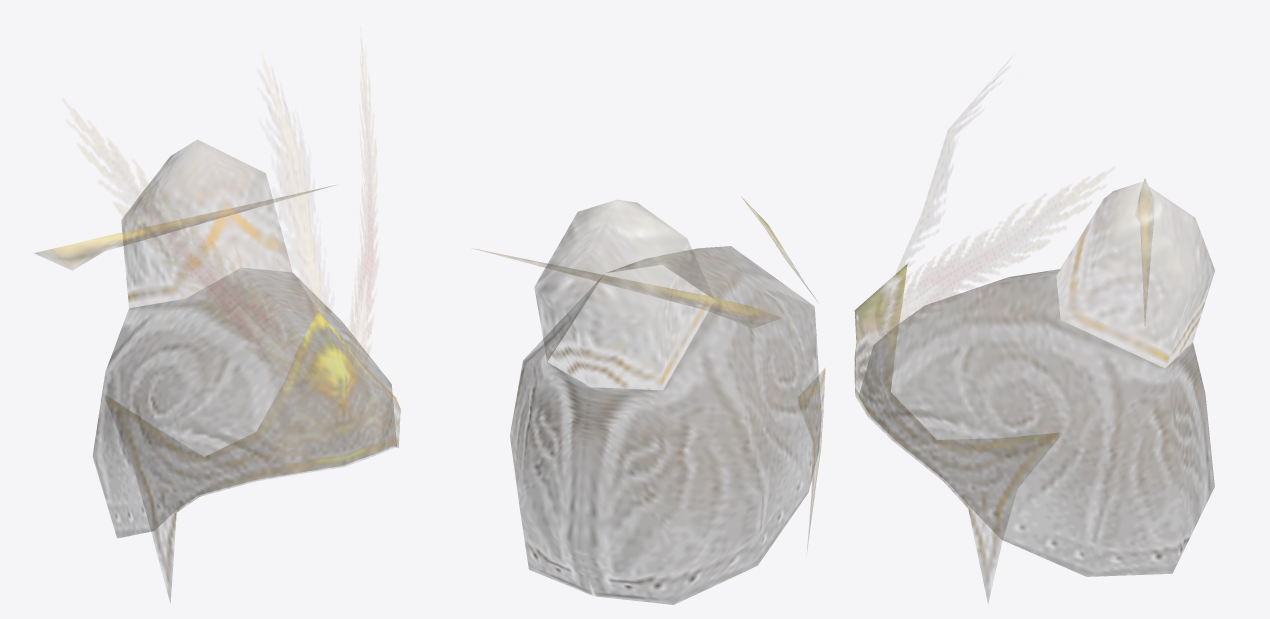
File: light_03_ha.glb
3 renders of one model, left to right at view 1: azimuth 30°, elevation 25°; view 2: azimuth 150°, elevation 25°; view 3: azimuth 270°, elevation 25°, orthographic. The views are drawn at different scales.
Visible parts, largest first — view 1: Light_03_ha; view 2: Light_03_ha; view 3: Light_03_ha.
Part boxes in pixels (<box>): Light_03_ha: <box>34,48,400,602</box>; Light_03_ha: <box>476,196,825,604</box>; Light_03_ha: <box>854,80,1214,601</box>.
Size of the model in its own units: 0.1921 by 0.2917 by 0.2104.
Materials: 1 (1 with a texture image).
